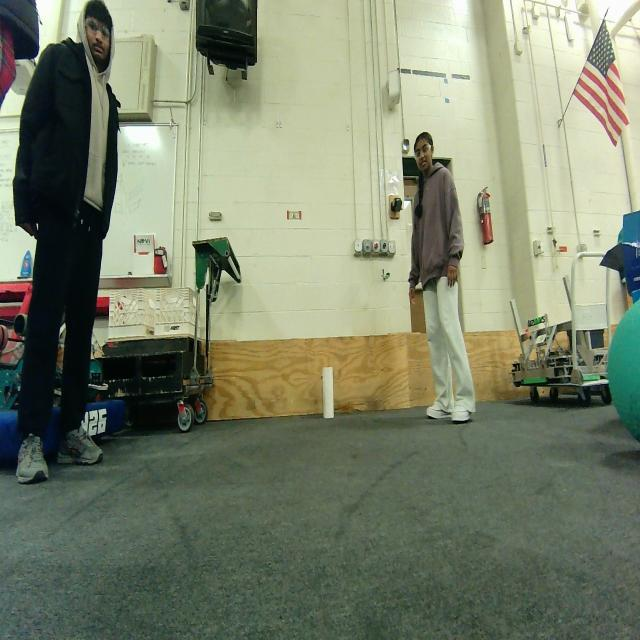algae: (606, 299, 640, 442)
coral: (322, 367, 334, 418)
